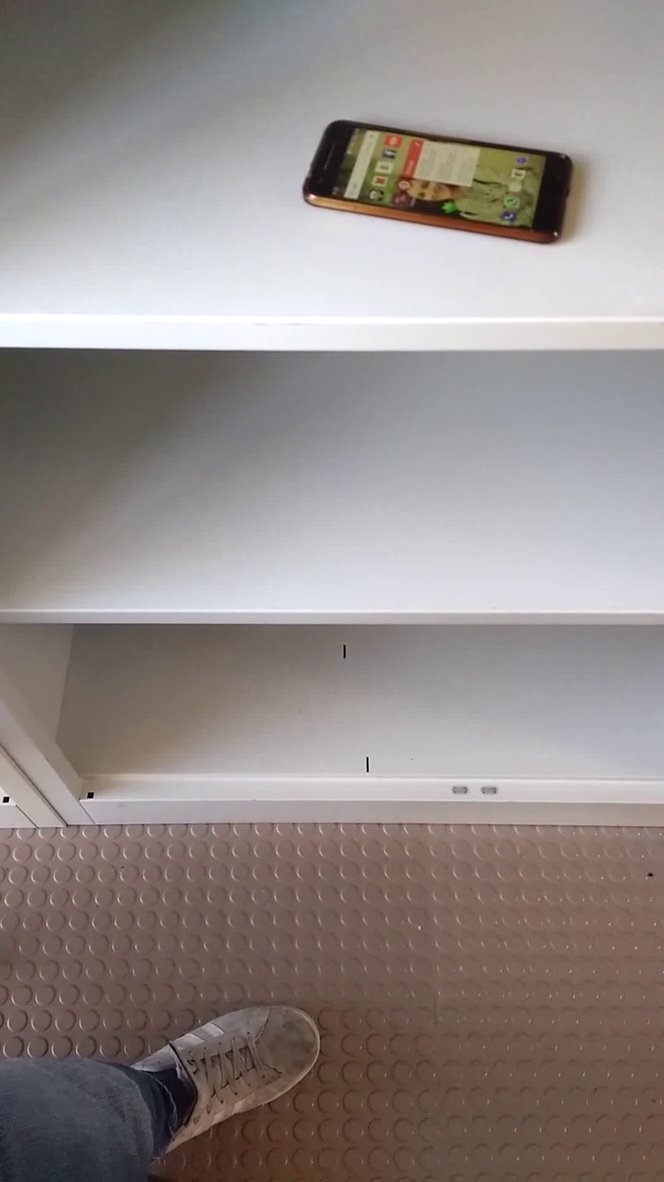phone: (294, 103, 592, 256)
